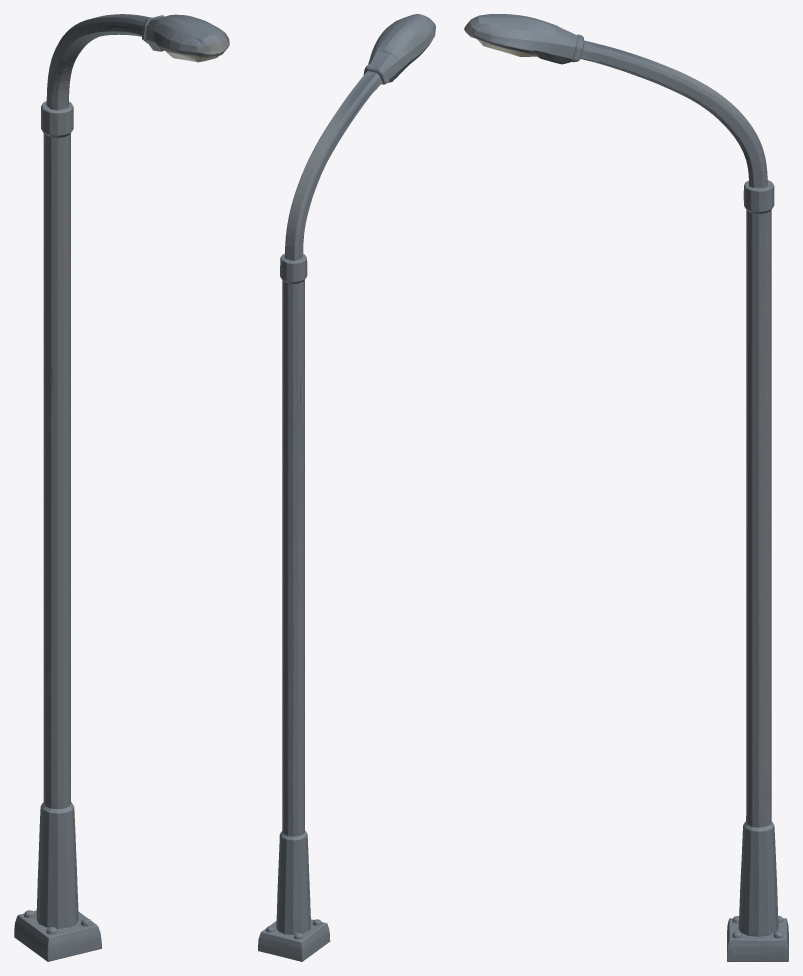
Rendered from street_lamp_cobra.glb.
3 renders of one model, left to right at view 1: azimuth 30°, elevation 25°; view 2: azimuth 150°, elevation 25°; view 3: azimuth 270°, elevation 25°, orthographic. The views are drawn at different scales.
Visible parts, largest first — view 1: street_lamp_cobra; view 2: street_lamp_cobra; view 3: street_lamp_cobra.
Part boxes in pixels (left/top/right/bottom): street_lamp_cobra: left=14, top=14, right=229, bottom=961; street_lamp_cobra: left=258, top=14, right=435, bottom=961; street_lamp_cobra: left=464, top=14, right=788, bottom=961.
Bounding box in the file's own units: 0.4494 × 8 × 2.52.
1 material, 1 textured.
